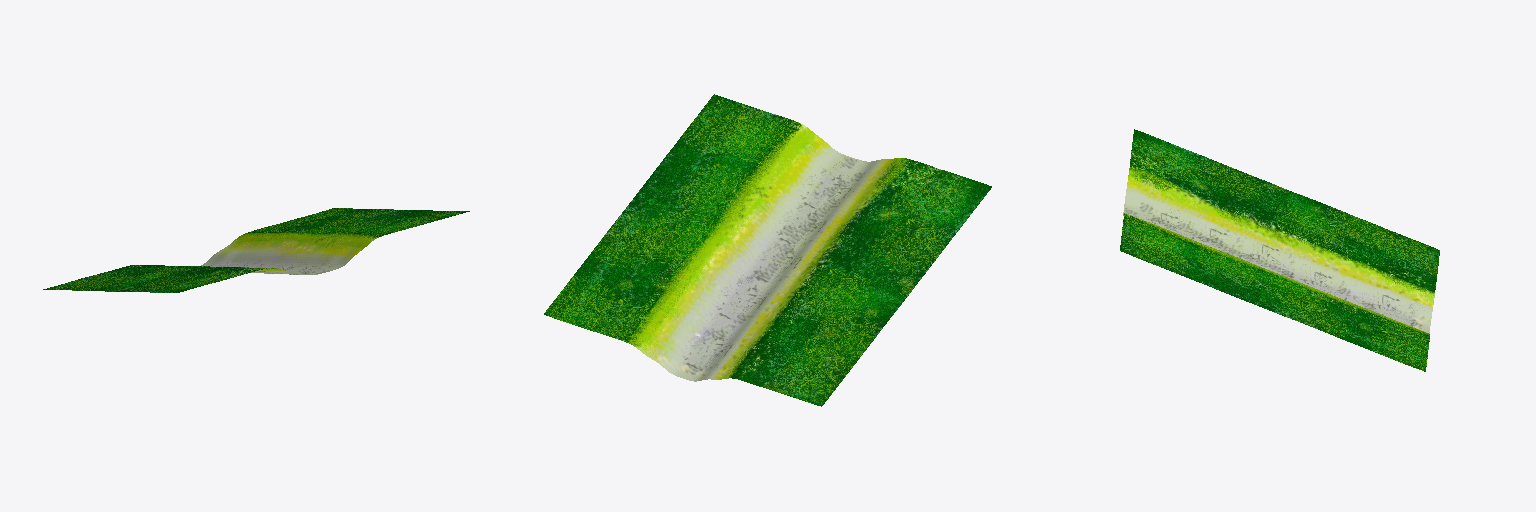
3 renders of one model, left to right at view 1: azimuth 30°, elevation 25°; view 2: azimuth 150°, elevation 25°; view 3: azimuth 270°, elevation 25°, orthographic.
Visible parts, largest first — view 1: Plane; view 2: Plane; view 3: Plane.
Boxes of the visible parts, <box> form: Plane: <box>43,208,469,292</box>; Plane: <box>544,94,991,406</box>; Plane: <box>1120,129,1439,371</box>.
Bounding box in the file's own units: 131 × 58.03 × 119.
1 materials, 1 textured.